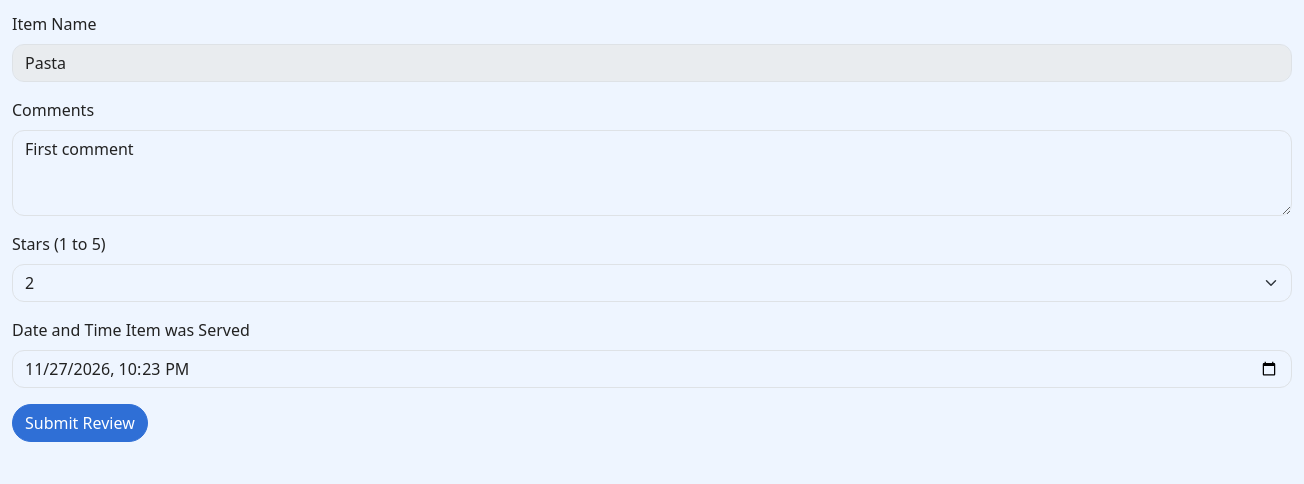
ReviewForm tests › does not accept empty datetime
Clear the field labelled "Date and Time Item was Served". click: (652, 369)
box: [12,350,1292,388]
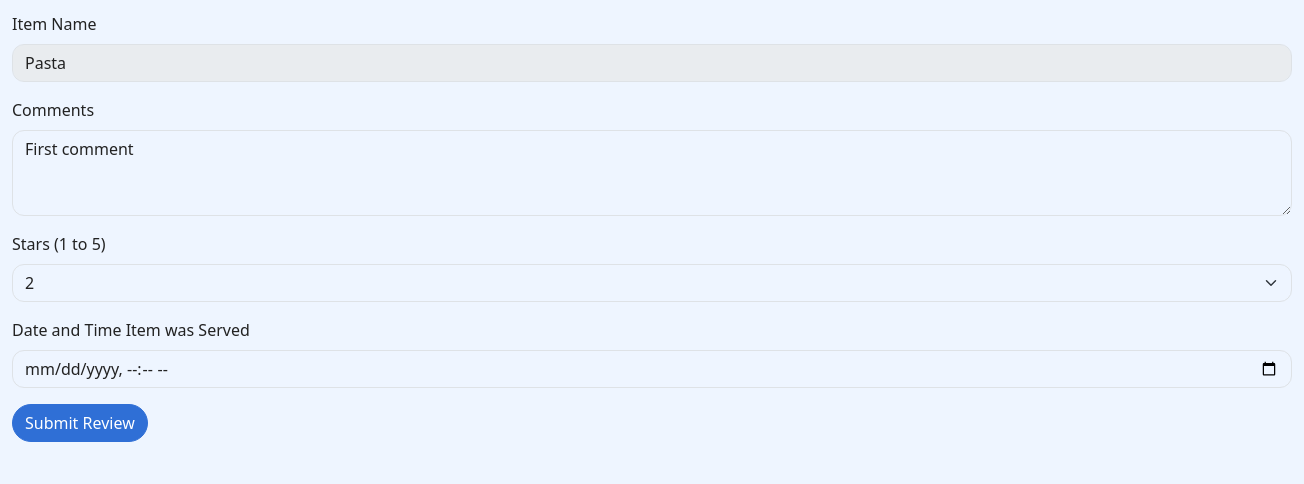
Click the button "Submit Review". click: (80, 423)
box: [12,404,148,442]
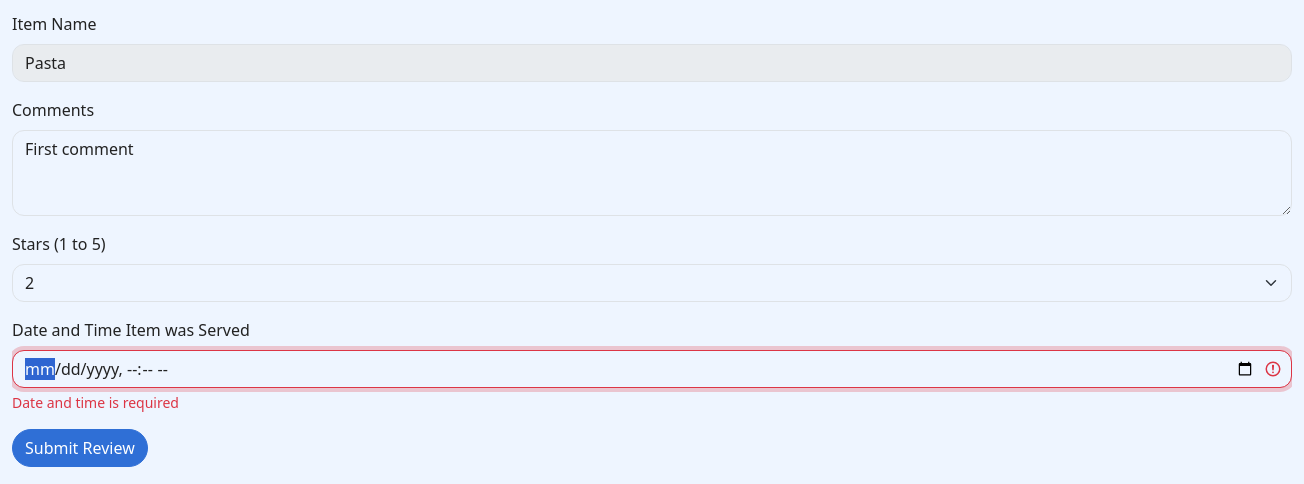
expect the text "Date and time is required" is shown: met, box [12,393,179,412]
